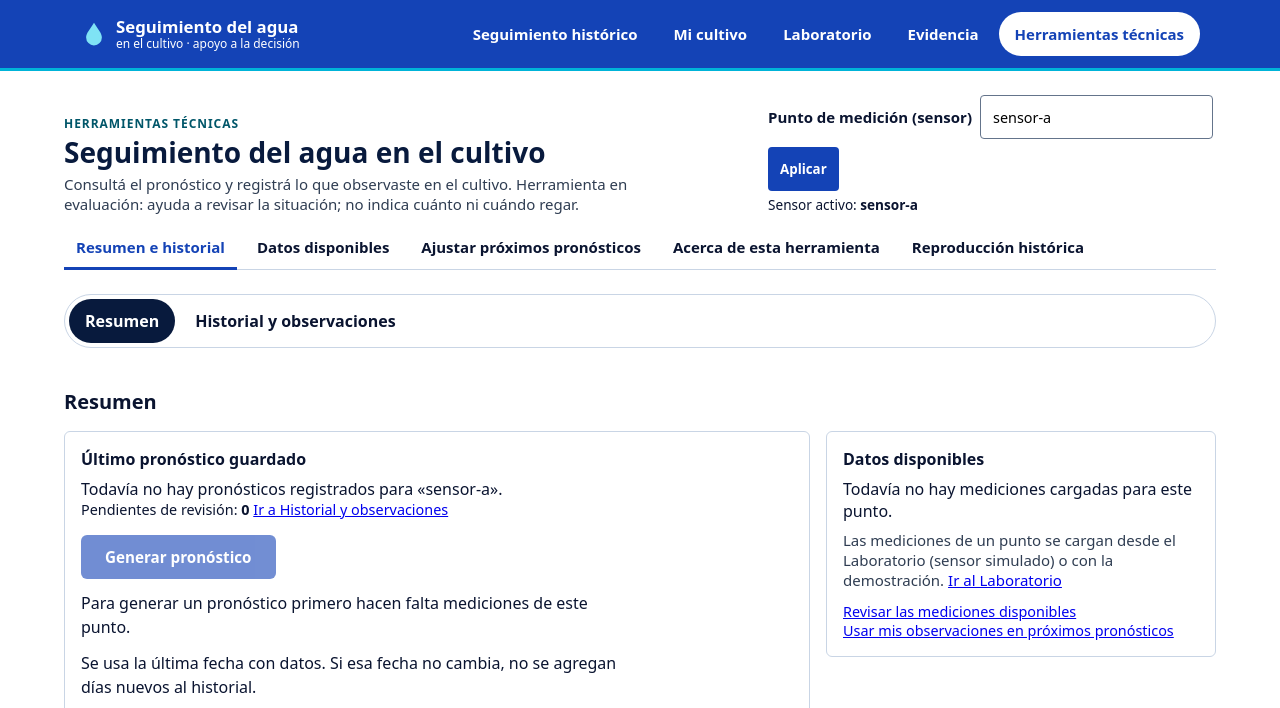
Test: App — navegación por hash (Entrega 2) › shows the active predictor identity under Ajustar próximos pronósticos
Click the link "Ajustar próximos pronósticos": (531,246) top-left (421, 236), bottom-right (641, 256)
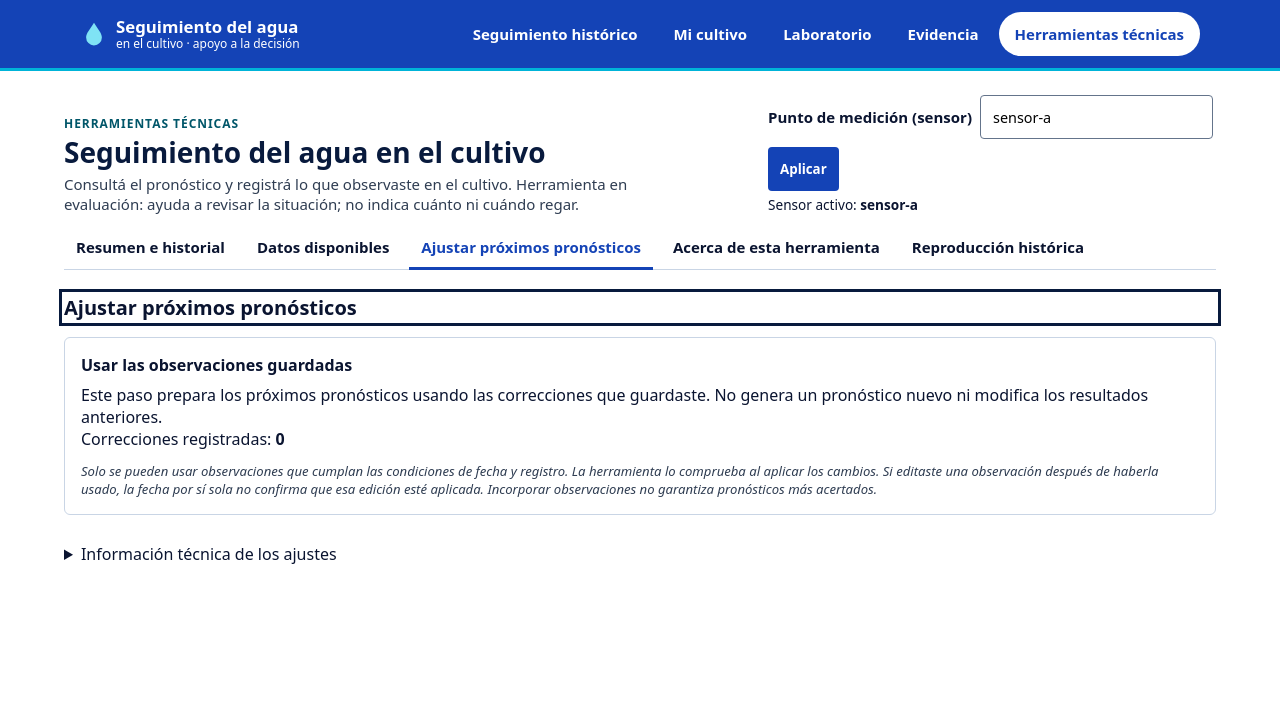
Expected: the text "modelo-activo" is not shown
Click the heading "Información técnica de los ajustes": (209,554) top-left (81, 543), bottom-right (337, 565)
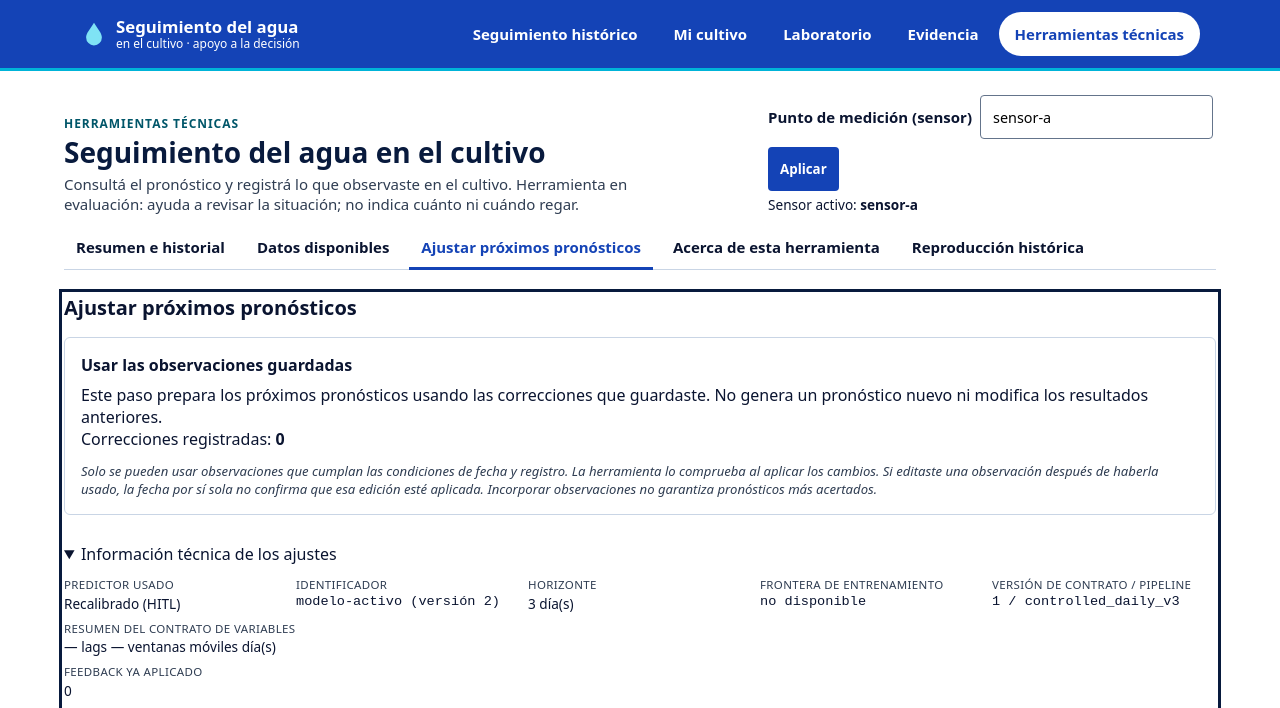
Expected: the text "modelo-activo (versión 2)" is shown, top-left (296, 594), bottom-right (520, 609)
